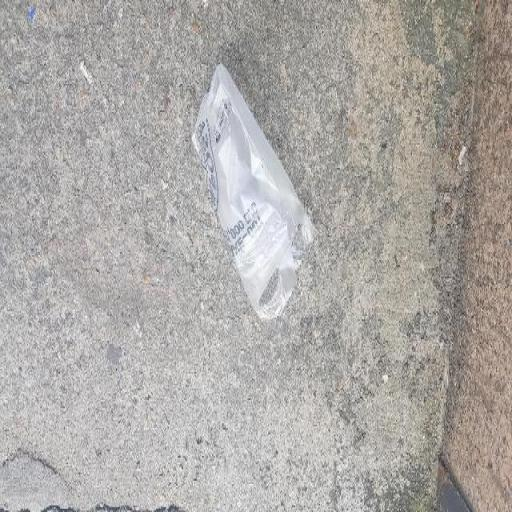plastic-bag: (188, 61, 321, 327)
